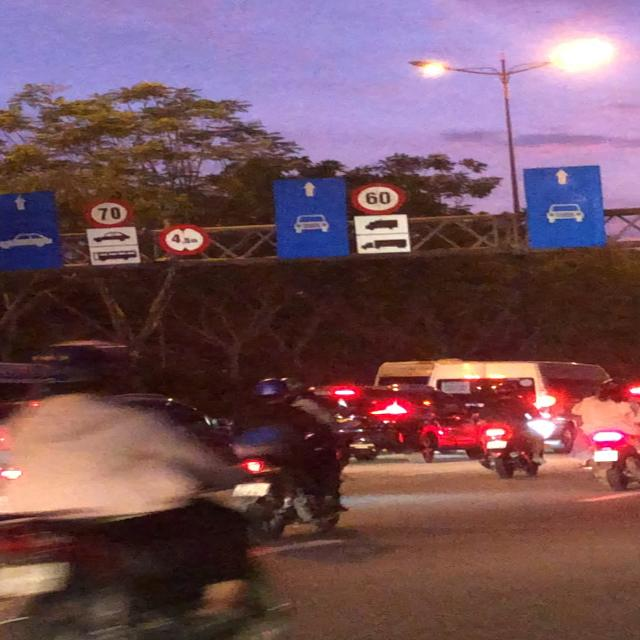Bien bao han che chieu cao: (156, 222, 213, 259)
Bien bao toc do toi da cho phep: (346, 180, 412, 216), (76, 198, 142, 229)
